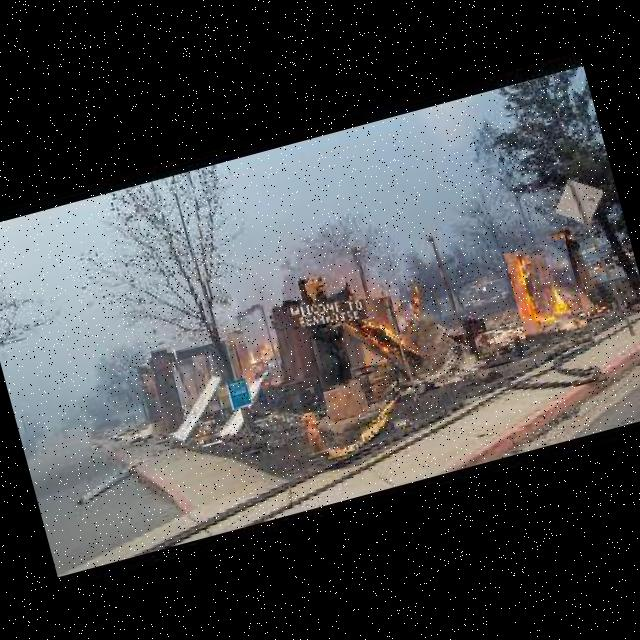fire: (503, 237, 589, 346)
